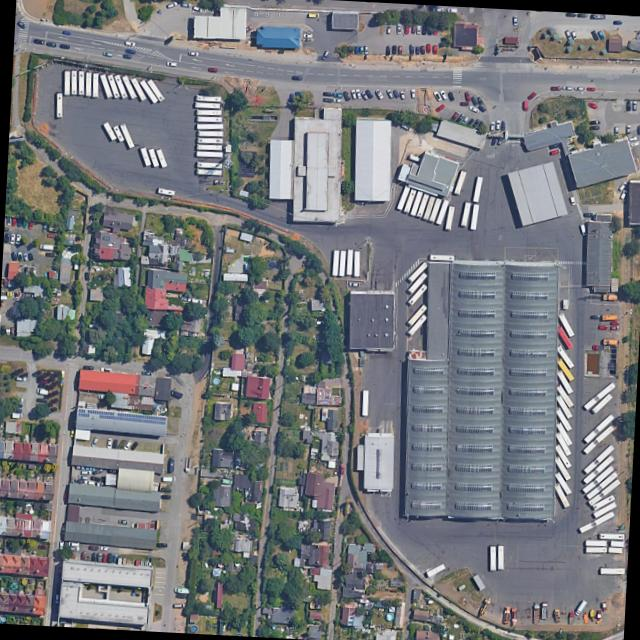large-vehicle: (583, 455, 615, 484), (583, 425, 615, 454), (586, 471, 619, 499), (584, 414, 615, 443), (583, 466, 615, 494), (584, 382, 616, 410), (588, 479, 621, 506), (584, 445, 615, 473), (579, 511, 615, 533), (555, 345, 575, 369), (140, 79, 159, 104), (592, 393, 614, 414), (408, 284, 429, 306), (554, 456, 572, 481), (408, 272, 429, 293), (408, 304, 428, 326), (556, 422, 574, 446), (556, 384, 574, 408), (557, 358, 575, 382), (555, 444, 572, 469), (557, 370, 574, 395), (408, 315, 428, 336), (408, 262, 429, 282), (147, 79, 165, 102), (556, 326, 574, 349), (555, 471, 572, 495), (555, 432, 572, 456), (555, 407, 572, 431), (556, 395, 573, 419), (558, 313, 575, 337), (554, 483, 570, 508), (131, 77, 147, 101), (120, 124, 135, 149), (397, 185, 412, 210), (594, 502, 617, 518), (593, 494, 616, 510), (436, 199, 450, 225), (410, 190, 424, 216), (114, 74, 128, 99), (122, 76, 137, 99), (429, 197, 442, 223), (417, 193, 430, 218), (108, 74, 121, 98), (100, 74, 113, 98), (404, 189, 417, 213), (455, 170, 467, 195), (424, 195, 436, 220), (427, 563, 446, 577), (103, 122, 117, 141), (473, 176, 483, 202), (470, 204, 480, 230), (461, 201, 471, 226), (575, 599, 589, 616), (156, 148, 168, 167), (148, 148, 160, 167), (446, 206, 455, 230), (197, 168, 223, 176), (339, 250, 347, 276), (113, 125, 125, 142), (197, 143, 222, 151), (198, 161, 223, 169), (332, 250, 340, 275), (141, 147, 151, 166), (197, 151, 224, 158), (195, 102, 221, 109), (198, 130, 224, 137), (196, 95, 222, 102), (430, 254, 456, 261), (347, 249, 354, 275), (600, 533, 625, 540), (197, 123, 224, 129), (197, 137, 224, 143), (498, 543, 504, 570), (491, 544, 497, 571), (600, 568, 626, 574), (197, 116, 223, 122), (363, 390, 369, 416), (354, 251, 360, 277), (197, 109, 222, 115), (71, 70, 77, 95), (57, 93, 63, 118), (586, 540, 607, 547), (533, 603, 540, 624), (158, 188, 176, 196), (93, 73, 99, 97), (86, 72, 92, 96), (65, 71, 71, 95), (541, 602, 549, 620), (603, 293, 618, 302), (586, 547, 607, 553), (79, 71, 84, 95), (168, 457, 176, 472), (604, 339, 620, 346), (603, 314, 619, 321), (569, 611, 575, 625)
small-vehicle: (374, 88, 385, 101), (173, 587, 192, 594), (618, 181, 629, 193), (123, 439, 134, 451), (433, 90, 444, 102), (16, 19, 28, 30), (171, 389, 184, 399), (439, 89, 449, 102), (184, 457, 192, 473), (579, 223, 588, 237), (40, 243, 55, 251), (91, 435, 101, 447), (385, 88, 395, 100), (321, 49, 331, 61), (365, 89, 375, 100), (392, 89, 402, 100), (471, 118, 481, 129), (466, 117, 476, 128), (342, 91, 352, 102), (130, 440, 139, 452), (36, 387, 48, 396), (167, 1, 179, 10), (549, 148, 562, 156), (455, 113, 465, 123), (620, 189, 629, 200), (591, 31, 600, 42), (588, 101, 599, 110), (451, 111, 460, 122), (435, 104, 446, 113), (469, 105, 480, 114), (97, 393, 111, 400), (590, 118, 602, 126), (592, 344, 605, 351), (564, 30, 573, 40), (527, 91, 537, 100), (361, 91, 370, 101), (569, 195, 577, 206), (570, 30, 578, 41), (93, 468, 104, 476), (464, 91, 472, 102), (471, 96, 479, 107), (80, 469, 92, 476), (192, 5, 204, 12), (117, 519, 129, 526), (125, 48, 137, 55), (303, 33, 315, 40), (478, 104, 487, 113), (490, 136, 498, 146), (462, 115, 470, 125), (162, 476, 175, 482), (187, 51, 200, 57), (549, 143, 560, 150), (447, 7, 458, 14), (512, 15, 519, 26), (386, 24, 393, 35), (112, 439, 119, 450), (12, 412, 23, 419), (74, 478, 85, 485), (28, 219, 35, 230), (21, 218, 28, 229), (448, 91, 455, 102), (125, 40, 136, 47), (103, 51, 114, 58), (60, 43, 71, 50), (597, 325, 609, 331), (598, 31, 606, 40), (626, 100, 632, 112), (397, 23, 403, 35), (90, 476, 102, 482), (161, 487, 173, 493), (245, 25, 254, 33), (181, 2, 193, 8), (141, 370, 153, 376), (410, 88, 416, 100), (156, 542, 168, 548), (629, 135, 639, 142), (100, 545, 110, 552), (42, 222, 49, 232), (477, 96, 484, 106), (350, 90, 357, 100), (589, 314, 600, 320), (490, 121, 496, 132), (107, 438, 113, 449), (101, 367, 112, 373), (83, 365, 94, 371), (16, 376, 27, 382), (113, 553, 119, 564), (107, 553, 113, 564), (10, 233, 16, 244), (15, 234, 21, 245), (88, 545, 99, 551), (385, 45, 391, 56), (426, 43, 432, 54), (355, 88, 361, 99), (34, 39, 45, 45), (292, 75, 303, 81), (631, 140, 640, 147), (17, 252, 24, 261), (497, 137, 504, 146), (11, 252, 18, 261), (399, 91, 406, 100), (432, 8, 444, 13), (523, 101, 529, 111), (563, 85, 573, 91), (590, 125, 600, 131), (405, 24, 411, 34), (102, 553, 108, 563), (97, 552, 103, 562), (23, 252, 29, 262), (49, 226, 59, 232), (349, 282, 361, 287), (91, 552, 97, 562), (61, 525, 67, 535), (59, 541, 65, 551), (62, 30, 72, 36), (167, 61, 177, 67), (308, 13, 320, 18), (173, 604, 187, 608), (609, 321, 620, 326), (496, 120, 501, 131), (501, 121, 506, 132), (551, 86, 562, 91), (574, 86, 585, 91), (626, 124, 631, 135), (78, 475, 89, 480), (7, 216, 12, 227), (410, 44, 415, 55), (69, 542, 80, 547), (122, 54, 133, 59), (323, 92, 334, 97), (614, 127, 620, 136), (45, 252, 54, 258), (17, 218, 23, 227), (81, 552, 87, 561), (584, 213, 594, 218), (610, 326, 620, 331), (412, 24, 417, 34), (417, 25, 422, 35), (12, 408, 22, 413), (95, 267, 105, 272), (12, 217, 17, 227), (433, 45, 438, 55), (364, 44, 369, 54), (392, 44, 397, 54), (398, 45, 403, 55), (421, 45, 426, 55), (208, 68, 218, 73), (47, 42, 57, 47), (323, 98, 333, 103), (160, 495, 172, 499), (84, 272, 90, 280), (422, 26, 427, 35), (334, 93, 343, 98), (577, 13, 588, 17), (303, 37, 314, 41), (633, 101, 637, 112), (85, 481, 96, 485), (613, 21, 623, 25), (460, 102, 470, 106), (355, 46, 360, 54), (360, 46, 365, 54), (69, 547, 79, 551), (334, 98, 342, 103), (587, 87, 596, 91), (416, 46, 420, 55), (638, 125, 640, 135)
